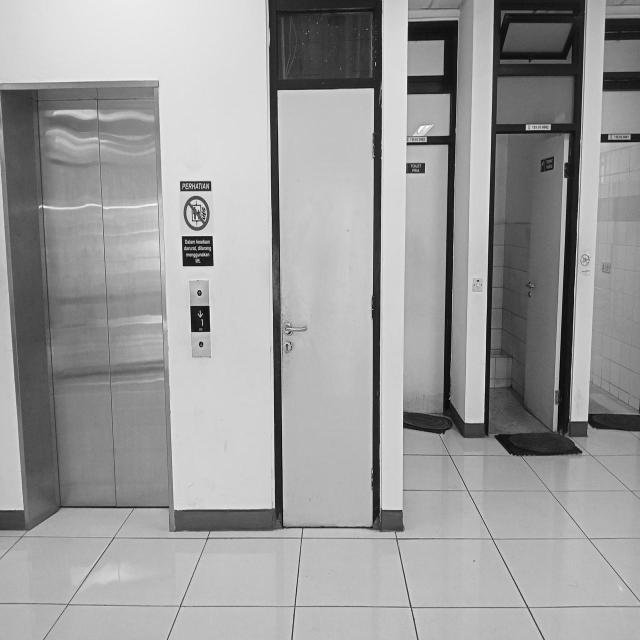door: (268, 76, 384, 534)
